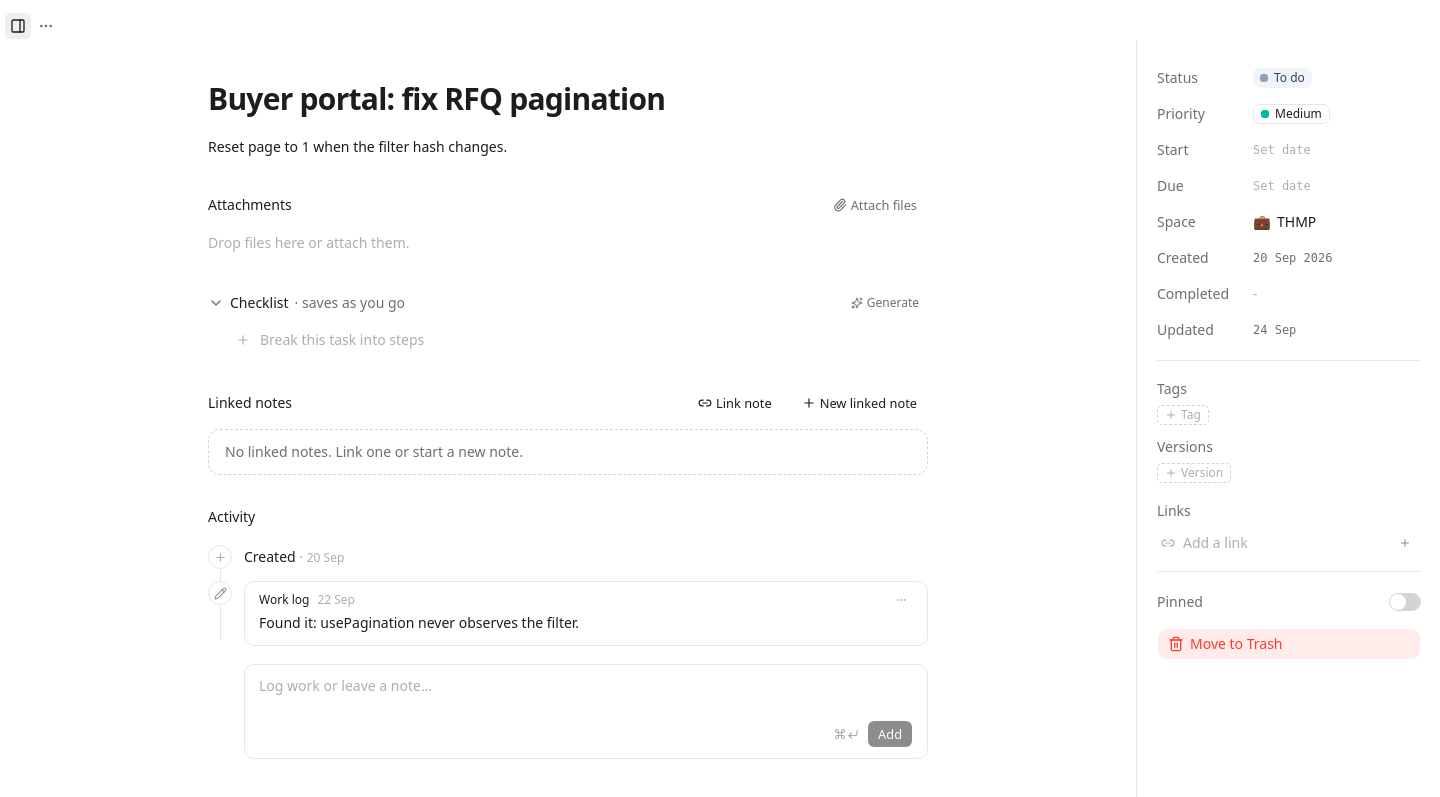
Test case: TaskDetailPage › adds a work-log entry with Ctrl+Enter
Type "Paired with QA on the edge cases" into the text box labelled "Log work or leave a note" at (586, 695), box [259,675,913,715]
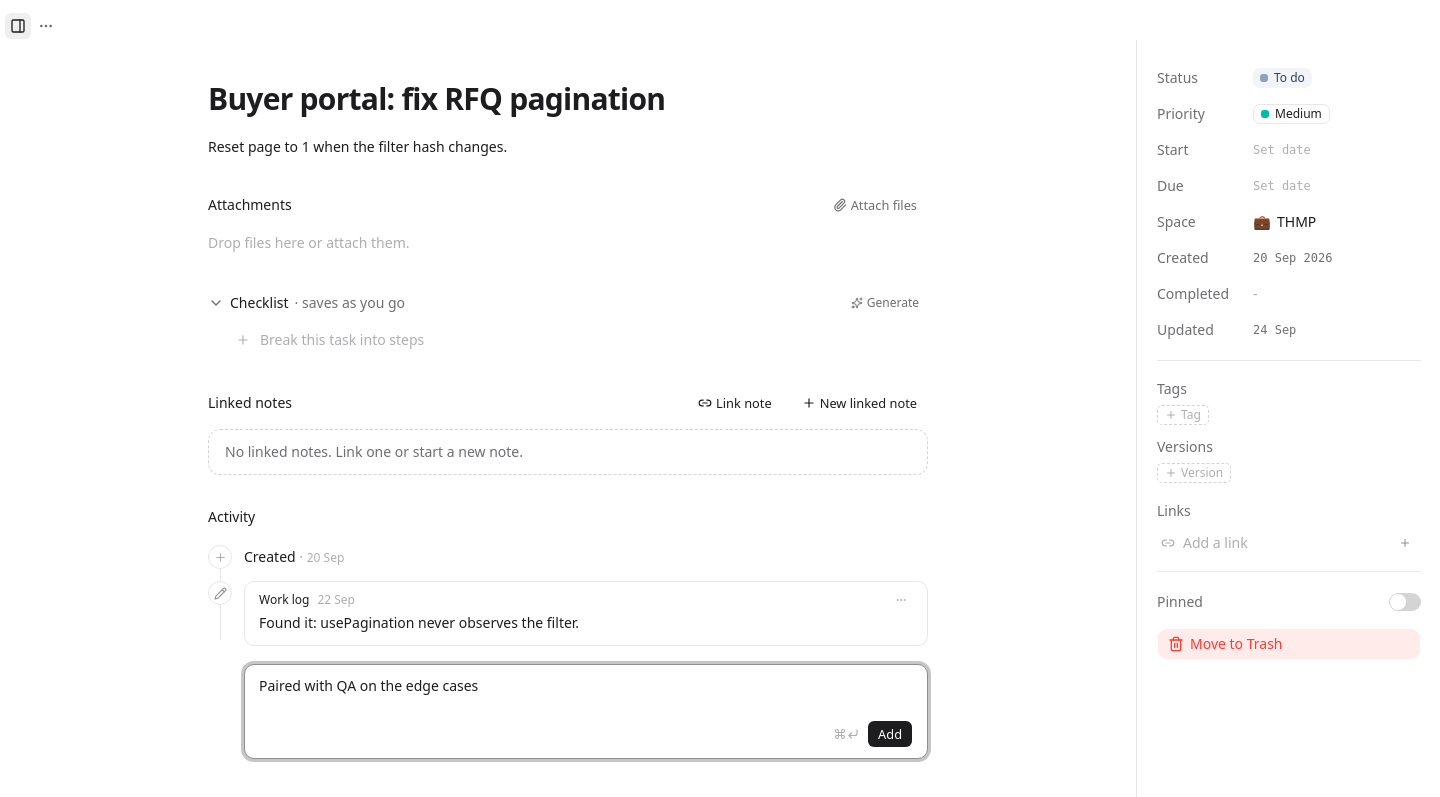
Press Enter in the text box named "Log work or leave a note", box [259,675,913,715]
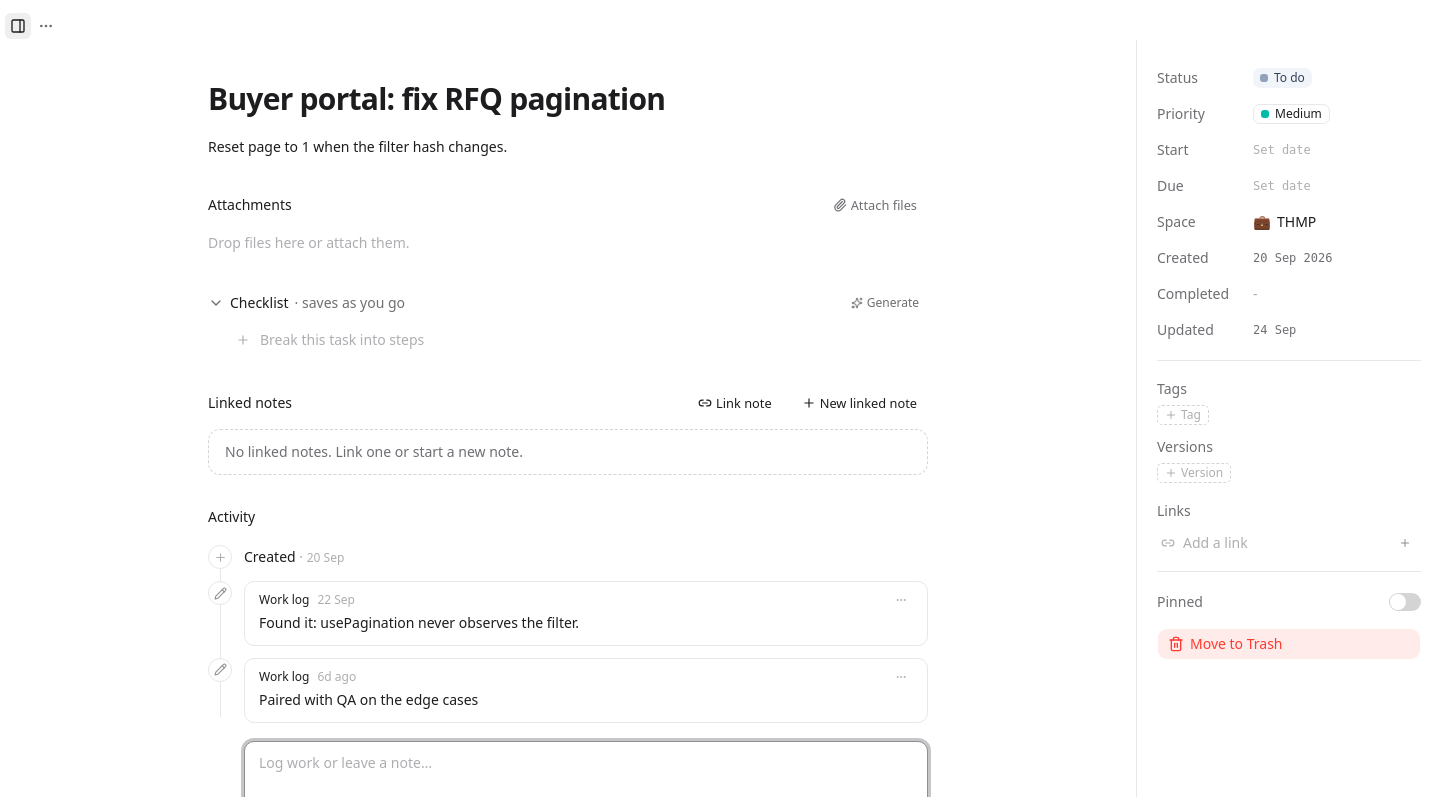
Check: the text "Paired with QA on the edge cases" is shown, box [259,690,478,709]
Check: the text box labelled "Log work or leave a note" is empty, box [259,752,913,792]
